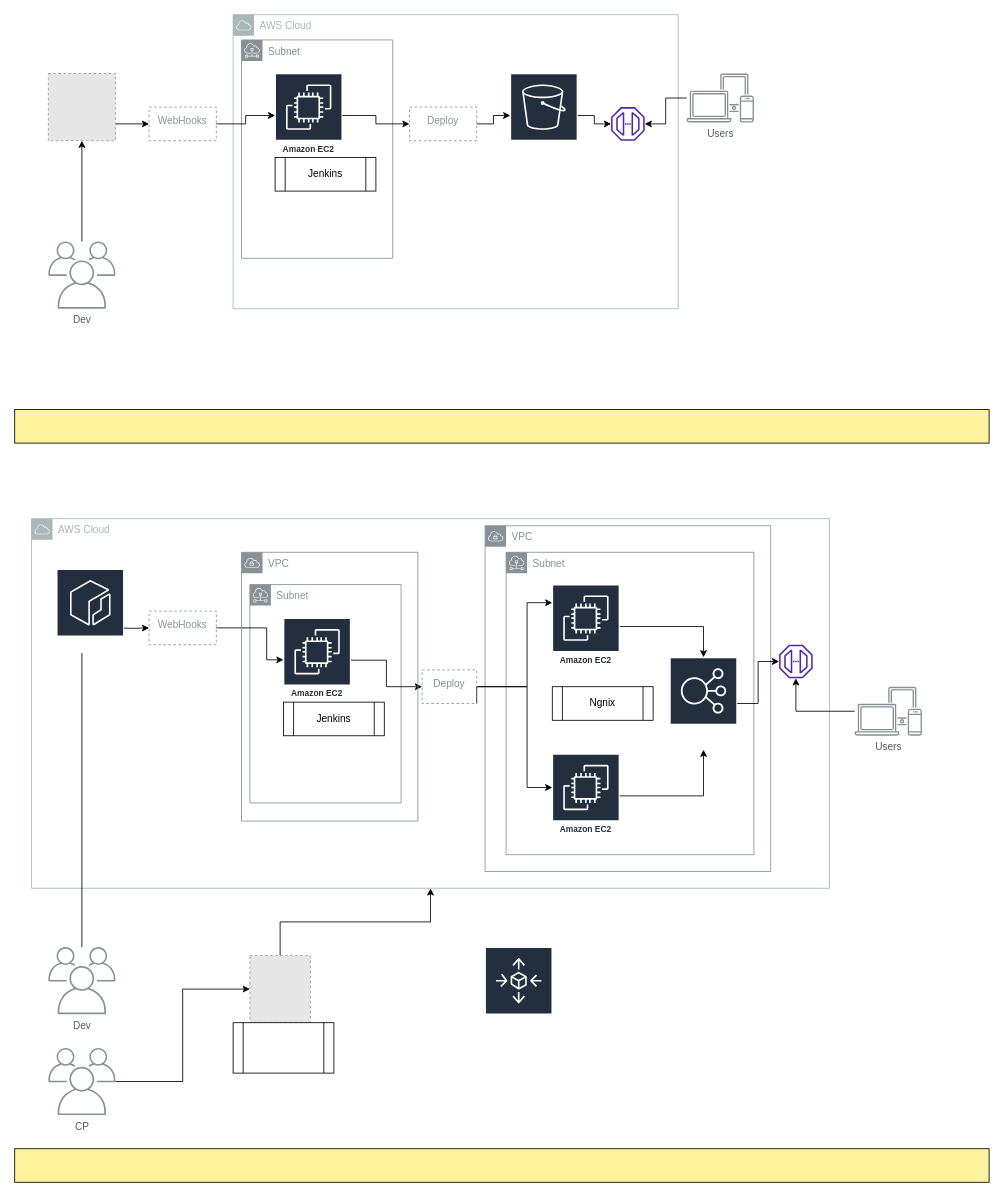
The diagram is 1004 pixels wide and 1197 high, and some of its shapes have lost their labels. Grey dashed boxes stand in for pictures. The shapes that lost their labels are listed below. From the top down, each one's box as (x1, y1, x2, y2) in pixels, then its label:
(509, 73, 578, 158): Amazon S3
(56, 568, 124, 653): Amazon ECR
(669, 656, 737, 750): Elastic Load Balancing
(484, 946, 552, 1040): AWS Auto Scaling
(232, 1022, 334, 1073): TerraForm IaC
